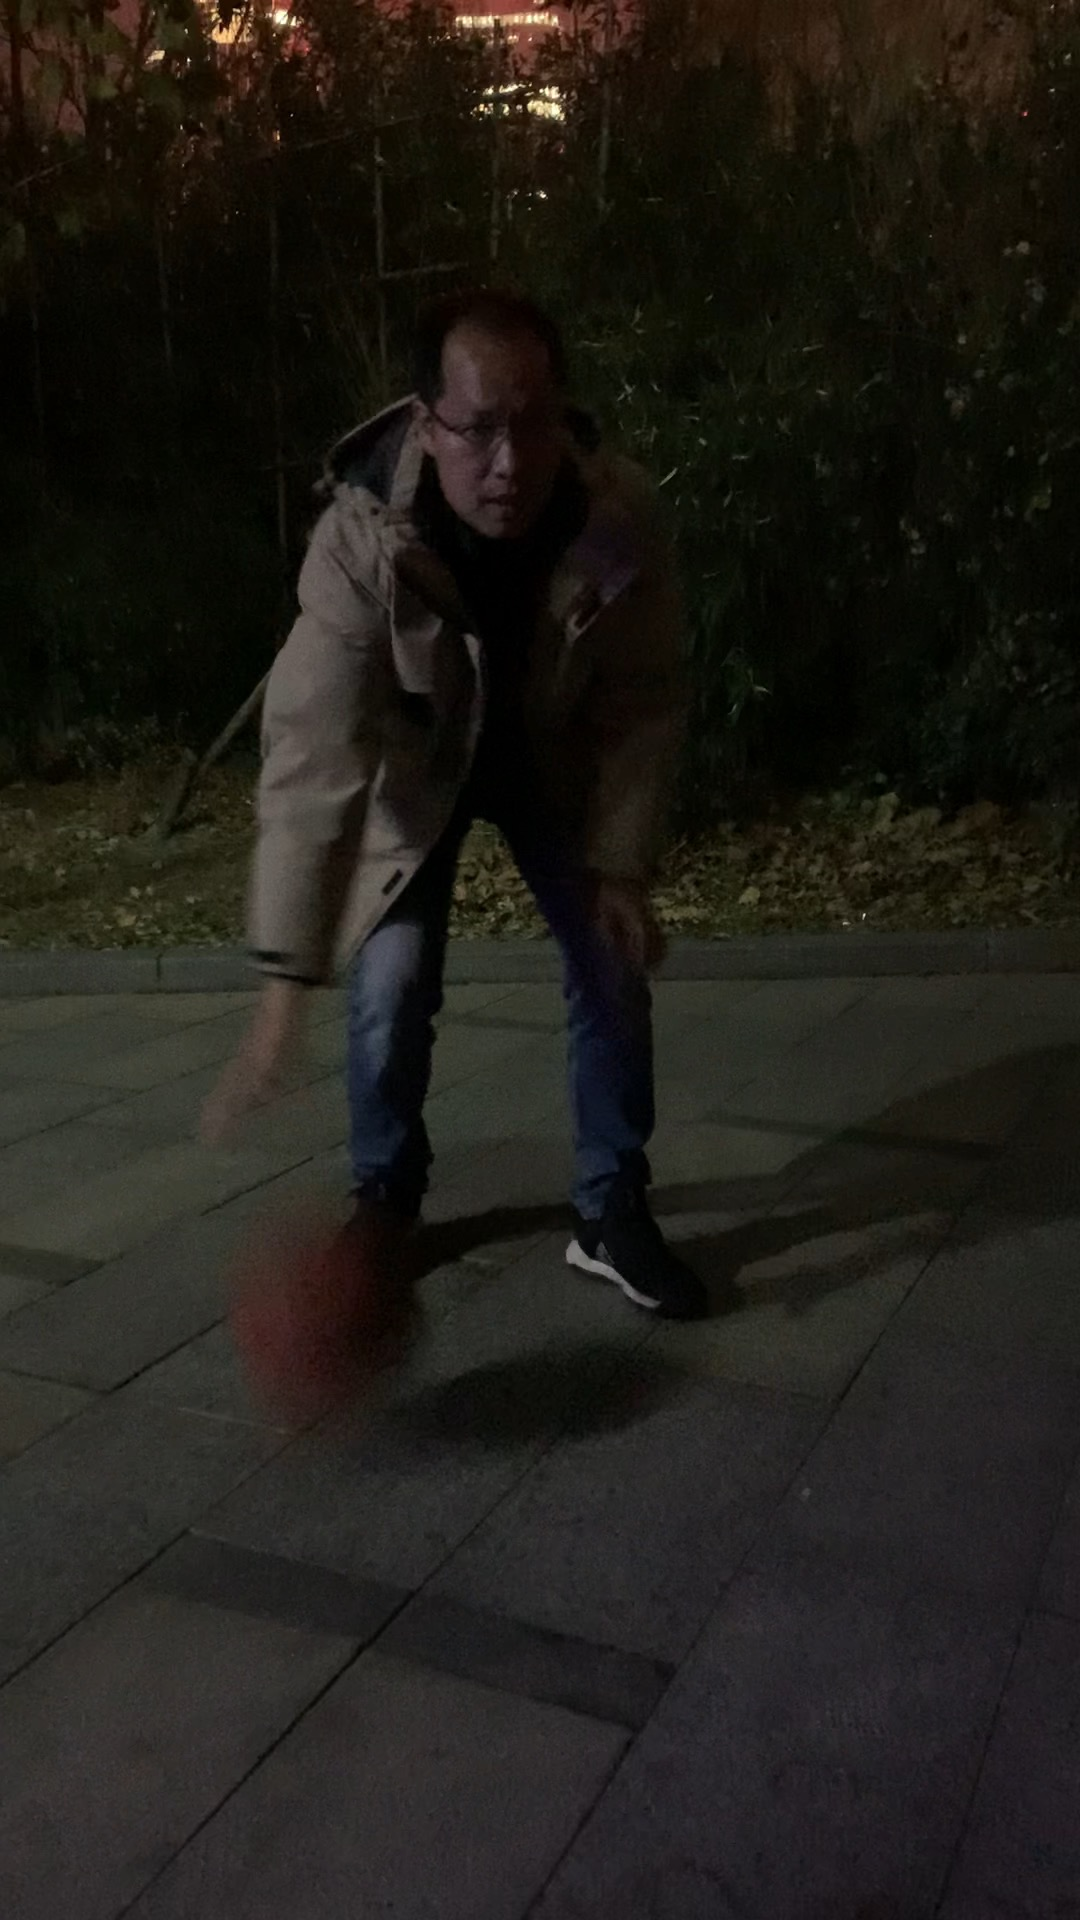ball: (229, 1226, 433, 1416)
